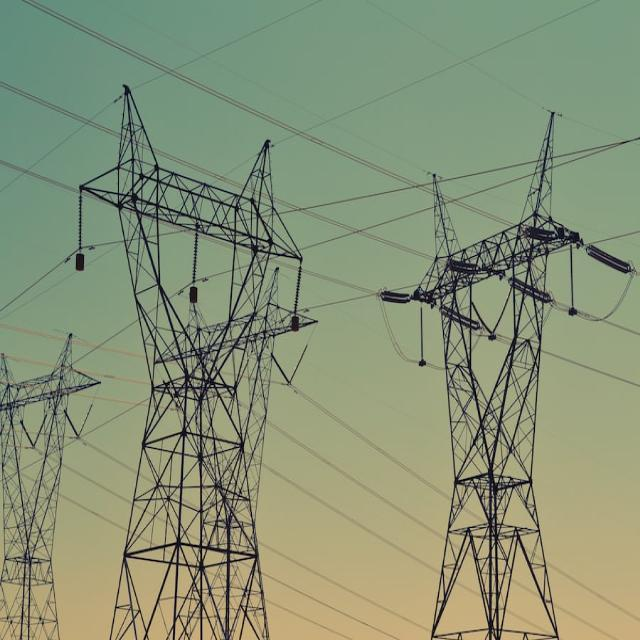transmission tower: (28, 70, 386, 598), (418, 117, 583, 594)
